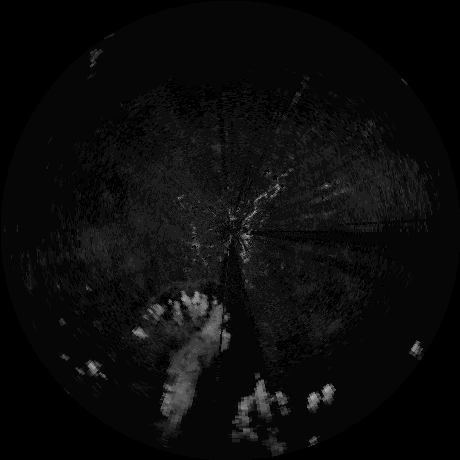frontgust: (156, 277, 217, 297)
